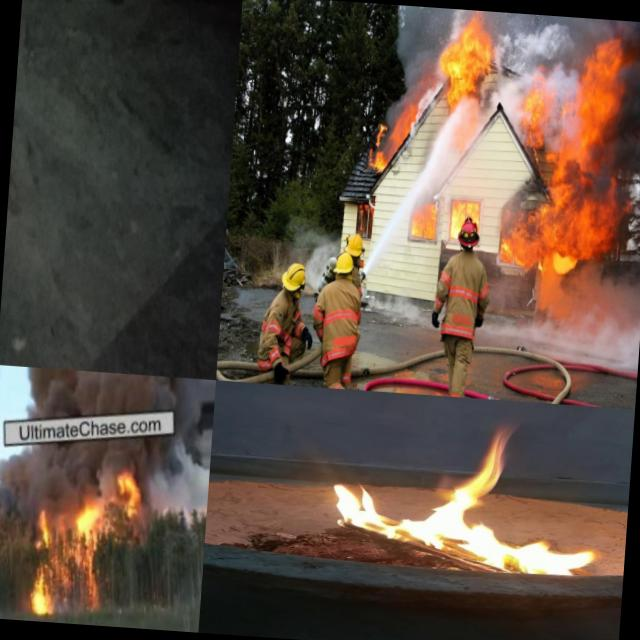fire: (312, 412, 602, 575), (552, 41, 624, 270), (438, 8, 491, 108), (362, 96, 416, 174), (496, 212, 556, 276), (58, 558, 100, 610), (523, 76, 552, 150), (539, 147, 560, 215), (25, 564, 51, 614), (118, 470, 142, 517), (410, 206, 440, 242), (76, 506, 99, 552), (31, 507, 52, 552), (450, 200, 464, 238), (465, 202, 481, 222)
smoke: (484, 299, 640, 373), (0, 448, 120, 507), (484, 11, 533, 131), (387, 5, 443, 100), (138, 446, 210, 514), (613, 20, 640, 193), (542, 61, 582, 150), (558, 266, 640, 308), (530, 15, 569, 80), (304, 226, 341, 288), (568, 16, 626, 46), (285, 212, 307, 264)
